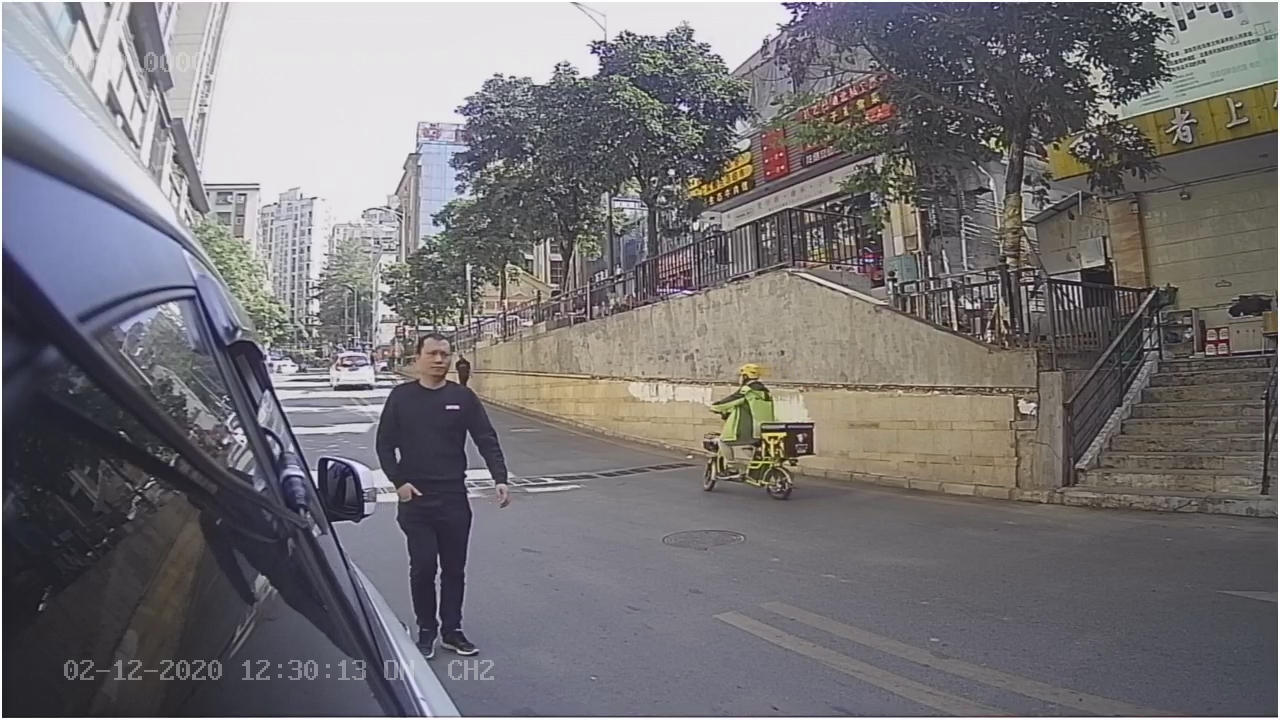person: (374, 326, 509, 465)
